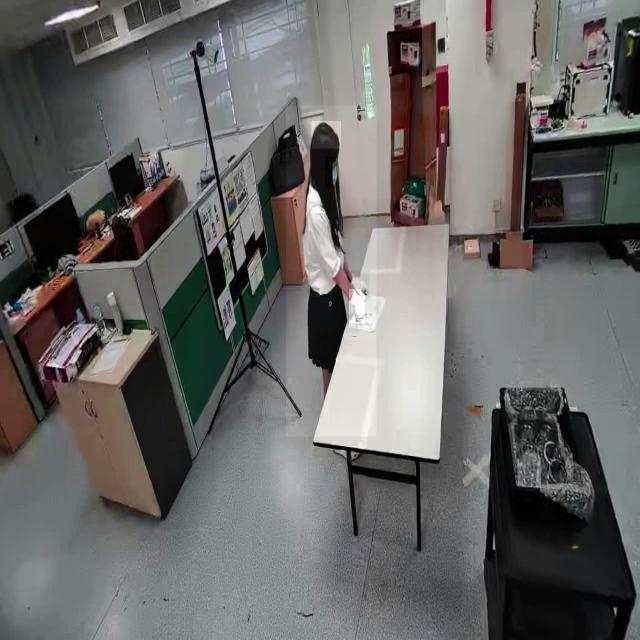face_mask: (325, 156, 339, 188)
hand_glove: (347, 270, 369, 302), (348, 289, 366, 324)
head_nohelmet: (311, 121, 341, 149)
person: (286, 106, 376, 437)
